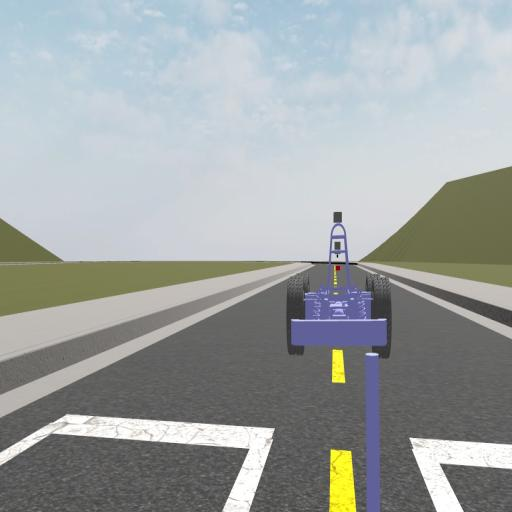ERP-42: (286, 212, 391, 359)
